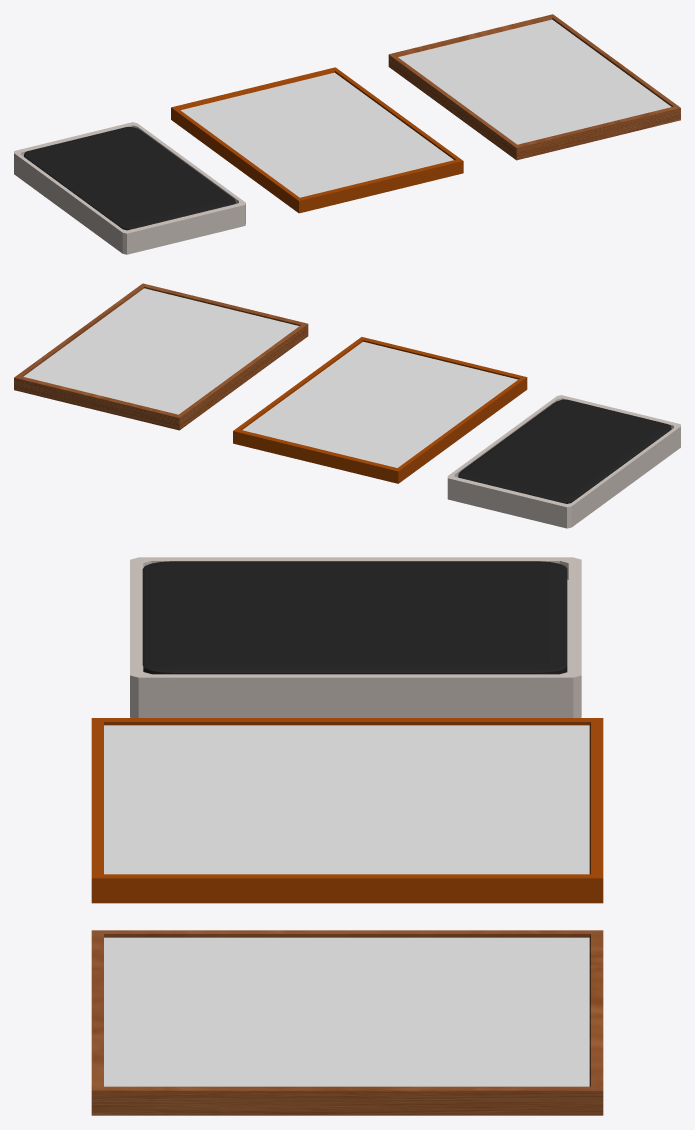
File: boxes.fbx
3 views of the same model, one above another, from view 1: azimuth 30°, elevation 25°; view 2: azimuth 150°, elevation 25°; view 3: azimuth 270°, elevation 25° (orthographic). The views are drawn at different scales.
Parts seen in each view (by area): view 1: box3, box2, box1; view 2: box3, box2, box1; view 3: box3, box2, box1.
Boxes of the visible parts, x1=… form: box3: x1=388, y1=14, x2=680, y2=160; box2: x1=171, y1=67, x2=463, y2=213; box1: x1=14, y1=122, x2=245, y2=254; box3: x1=14, y1=283, x2=308, y2=430; box2: x1=233, y1=337, x2=527, y2=483; box1: x1=447, y1=395, x2=680, y2=528; box3: x1=91, y1=930, x2=603, y2=1115; box2: x1=91, y1=718, x2=603, y2=903; box1: x1=130, y1=557, x2=581, y2=717.
Bounding box in the file's own units: 1062 × 40.89 × 431.
